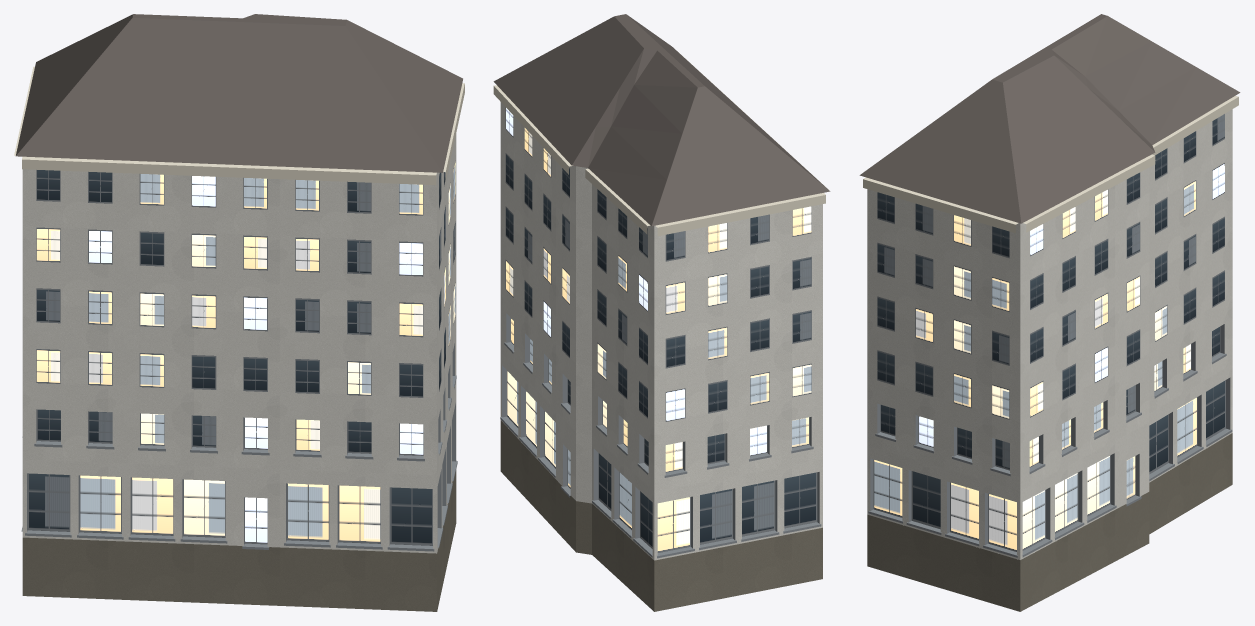
3 views of the same model, side by side, from view 1: azimuth 30°, elevation 25°; view 2: azimuth 150°, elevation 25°; view 3: azimuth 270°, elevation 25° (orthographic). The views are drawn at different scales.
Visible parts, largest first — view 1: z3c_zy_s2; view 2: z3c_zy_s2; view 3: z3c_zy_s2.
Boxes of the visible parts, x1=… form: z3c_zy_s2: x1=14, y1=14, x2=464, y2=611; z3c_zy_s2: x1=493, y1=14, x2=830, y2=611; z3c_zy_s2: x1=859, y1=14, x2=1240, y2=611.
Bounding box in the file's own units: 22.31 × 27.68 × 20.02.
Materials: 3 (3 with a texture image).
